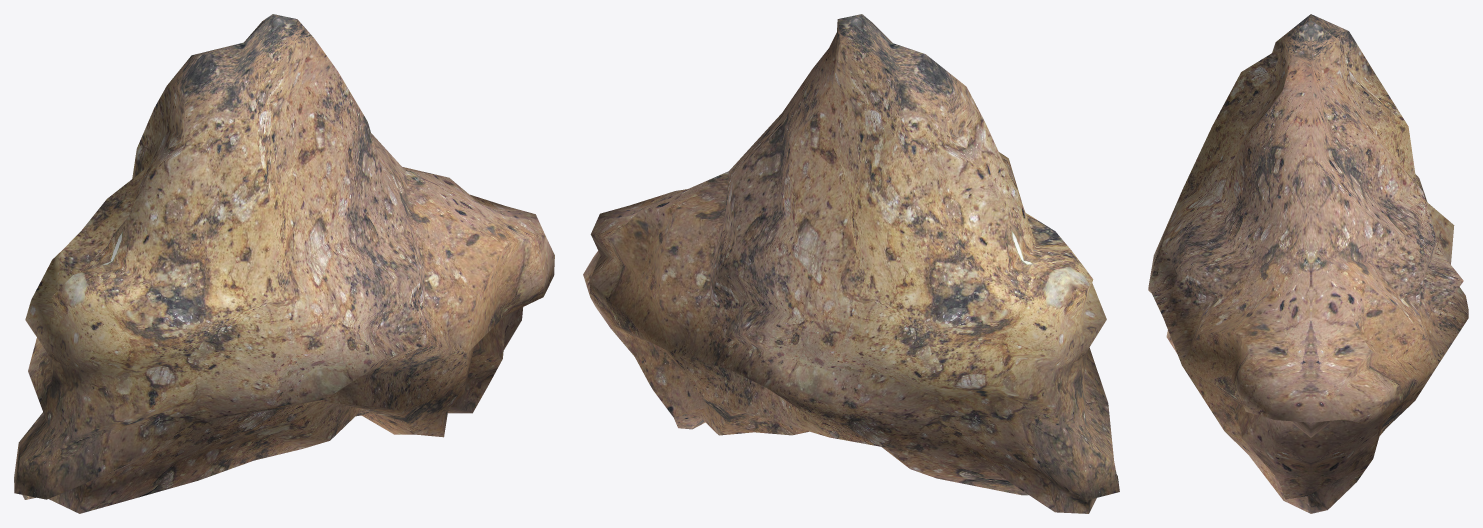
The model's file is Tufff updated.fbx.
3 views of the same model, side by side, from view 1: azimuth 30°, elevation 25°; view 2: azimuth 150°, elevation 25°; view 3: azimuth 270°, elevation 25° (orthographic). The views are drawn at different scales.
Parts seen in each view (by area): view 1: Tuff; view 2: Tuff; view 3: Tuff.
Boxes of the visible parts, x1,y1,x2,y2 form: Tuff: (14,14,554,513); Tuff: (583,14,1119,513); Tuff: (1148,14,1468,513).
Size of the model in its own units: 492 by 408 by 283.
